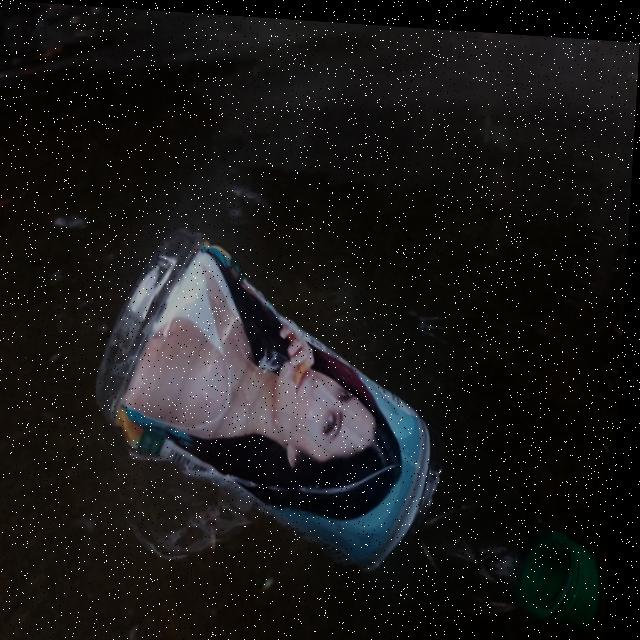waterbottle: (75, 204, 631, 638)
